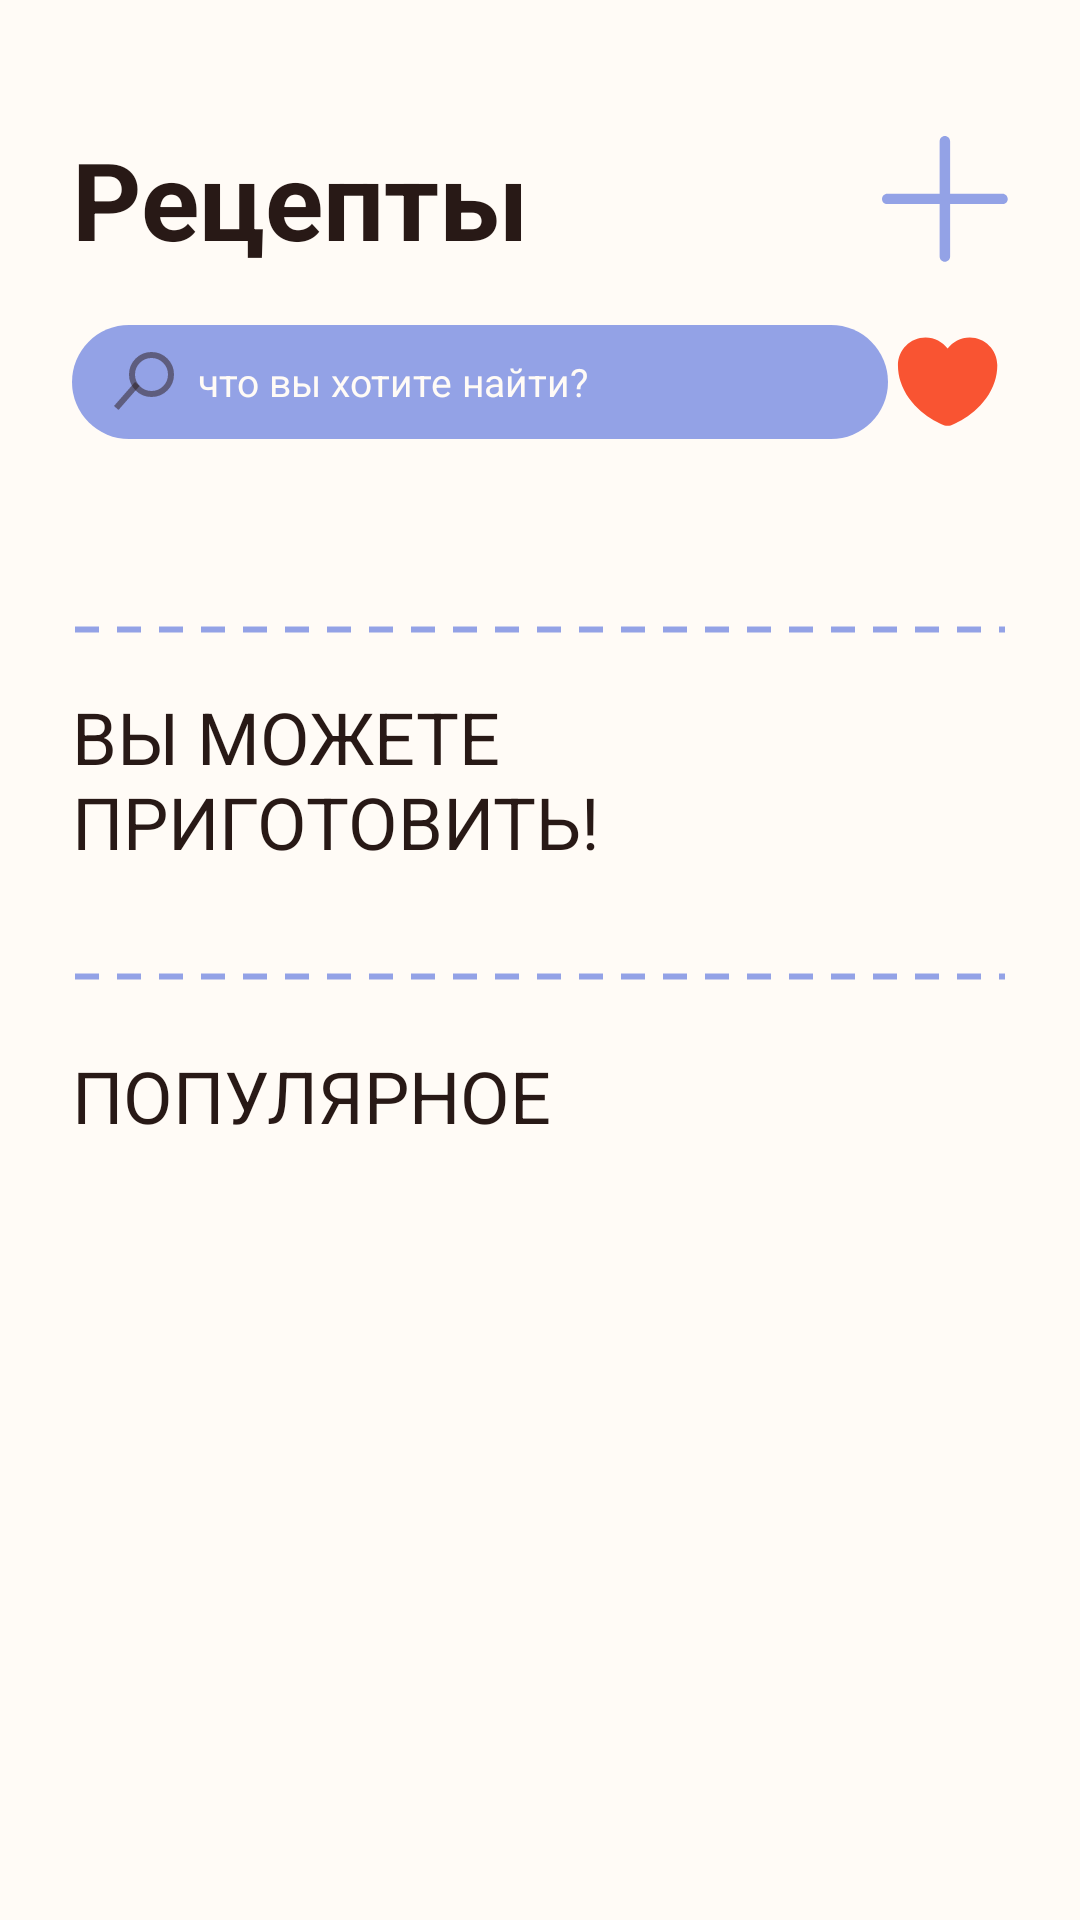

Where icons sit on this 1080 × 1920 app screen, as (x1, y1, x2, y2):
Добавить рецепт: (882, 136, 1008, 262)
